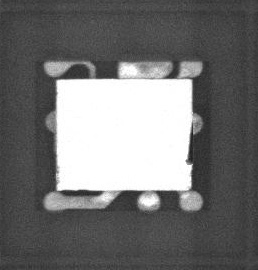DIE_BROKEN: (183, 123, 195, 166)
